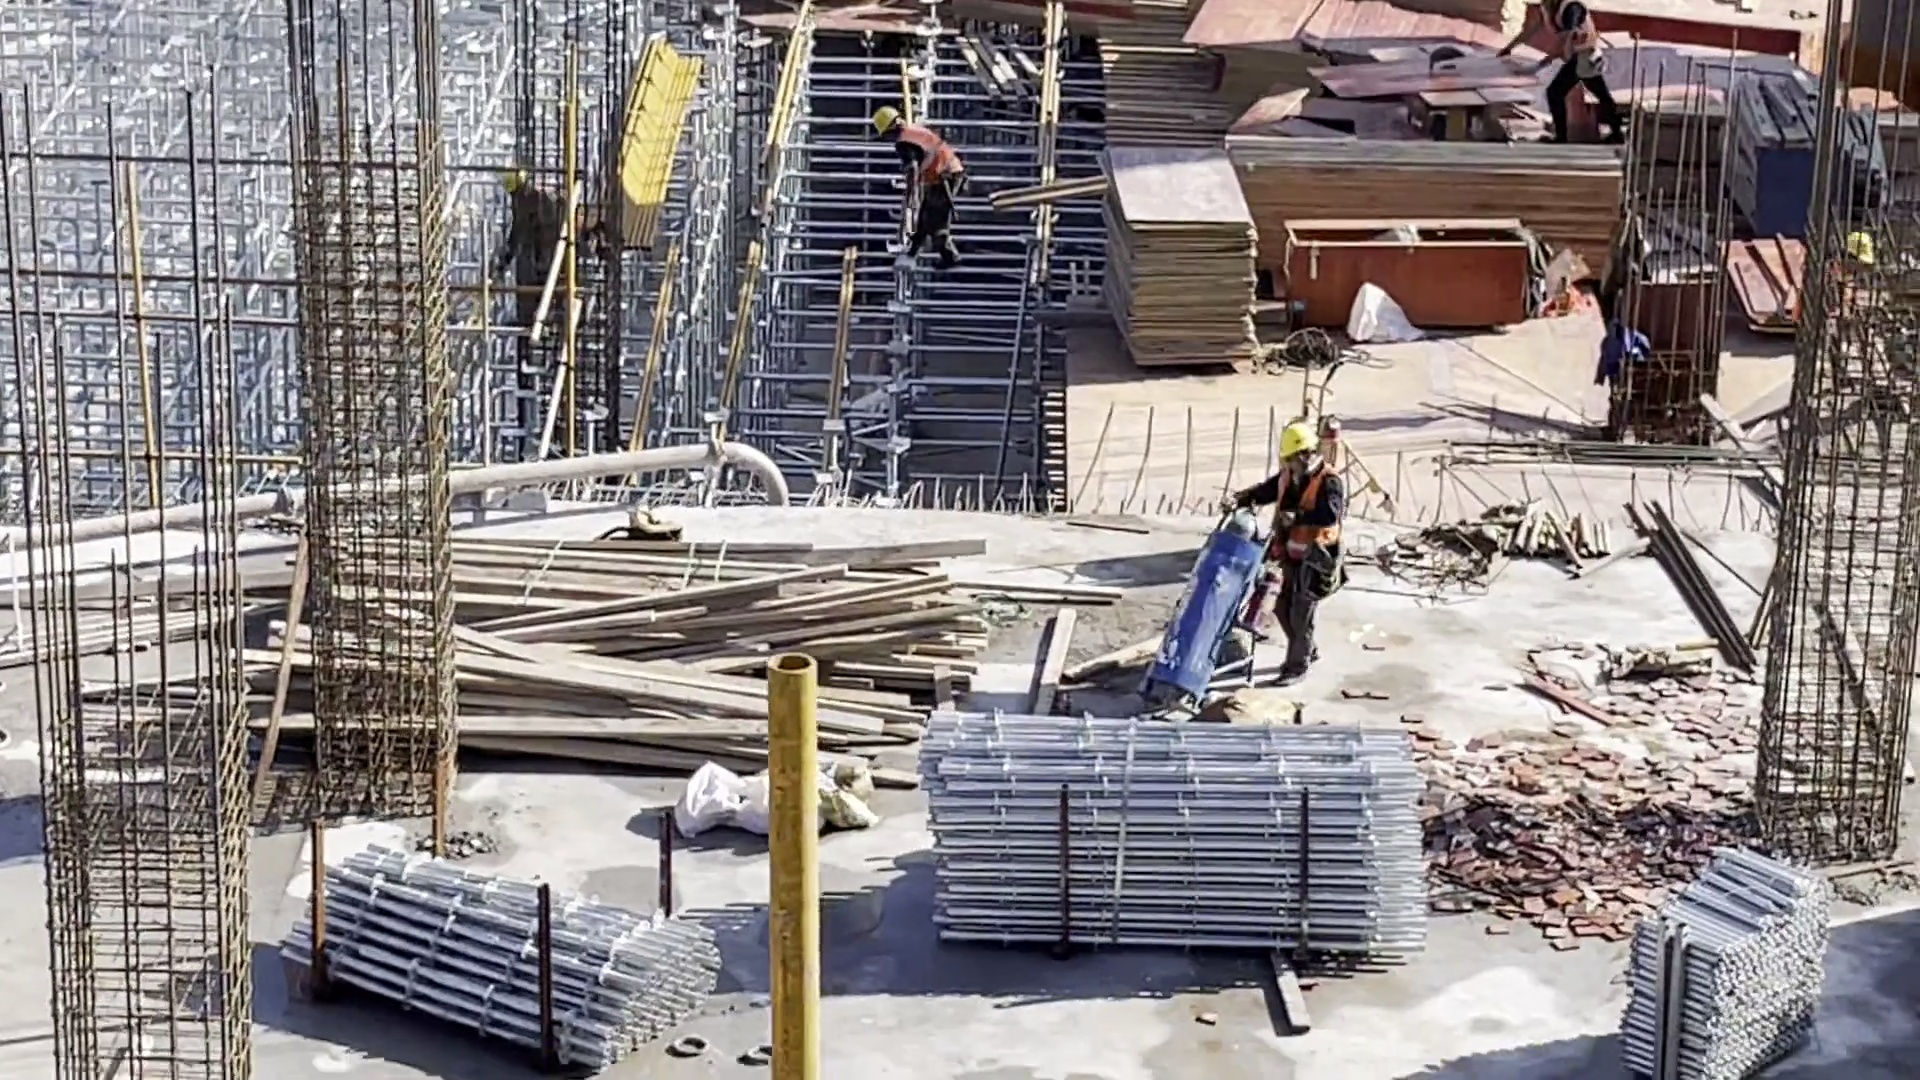board: (1097, 152, 1263, 372), (1201, 1, 1324, 114), (1720, 221, 1810, 324)
cutter: (1336, 40, 1538, 137)
helmet: (1278, 421, 1327, 455), (872, 104, 902, 132)
person: (1221, 424, 1351, 697), (871, 106, 975, 276), (1516, 1, 1630, 126)
rebar: (1622, 489, 1763, 667), (1453, 421, 1798, 475)
scaffold: (918, 716, 1437, 963), (289, 848, 722, 1080), (1630, 844, 1831, 1080)
vest: (1264, 466, 1338, 565), (900, 127, 964, 193), (1544, 1, 1600, 63)
wood: (420, 533, 990, 782), (1227, 135, 1623, 229)
